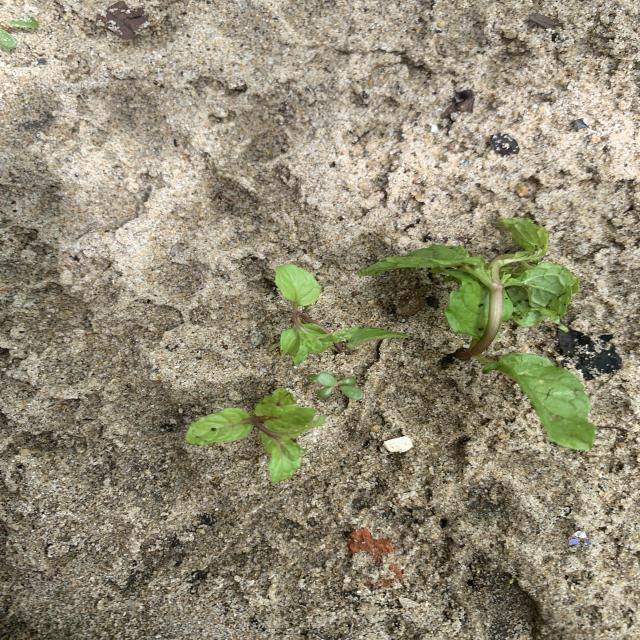crop: (359, 218, 596, 450), (271, 264, 409, 364), (186, 388, 326, 483)
weed: (306, 372, 364, 400), (0, 18, 39, 50)
